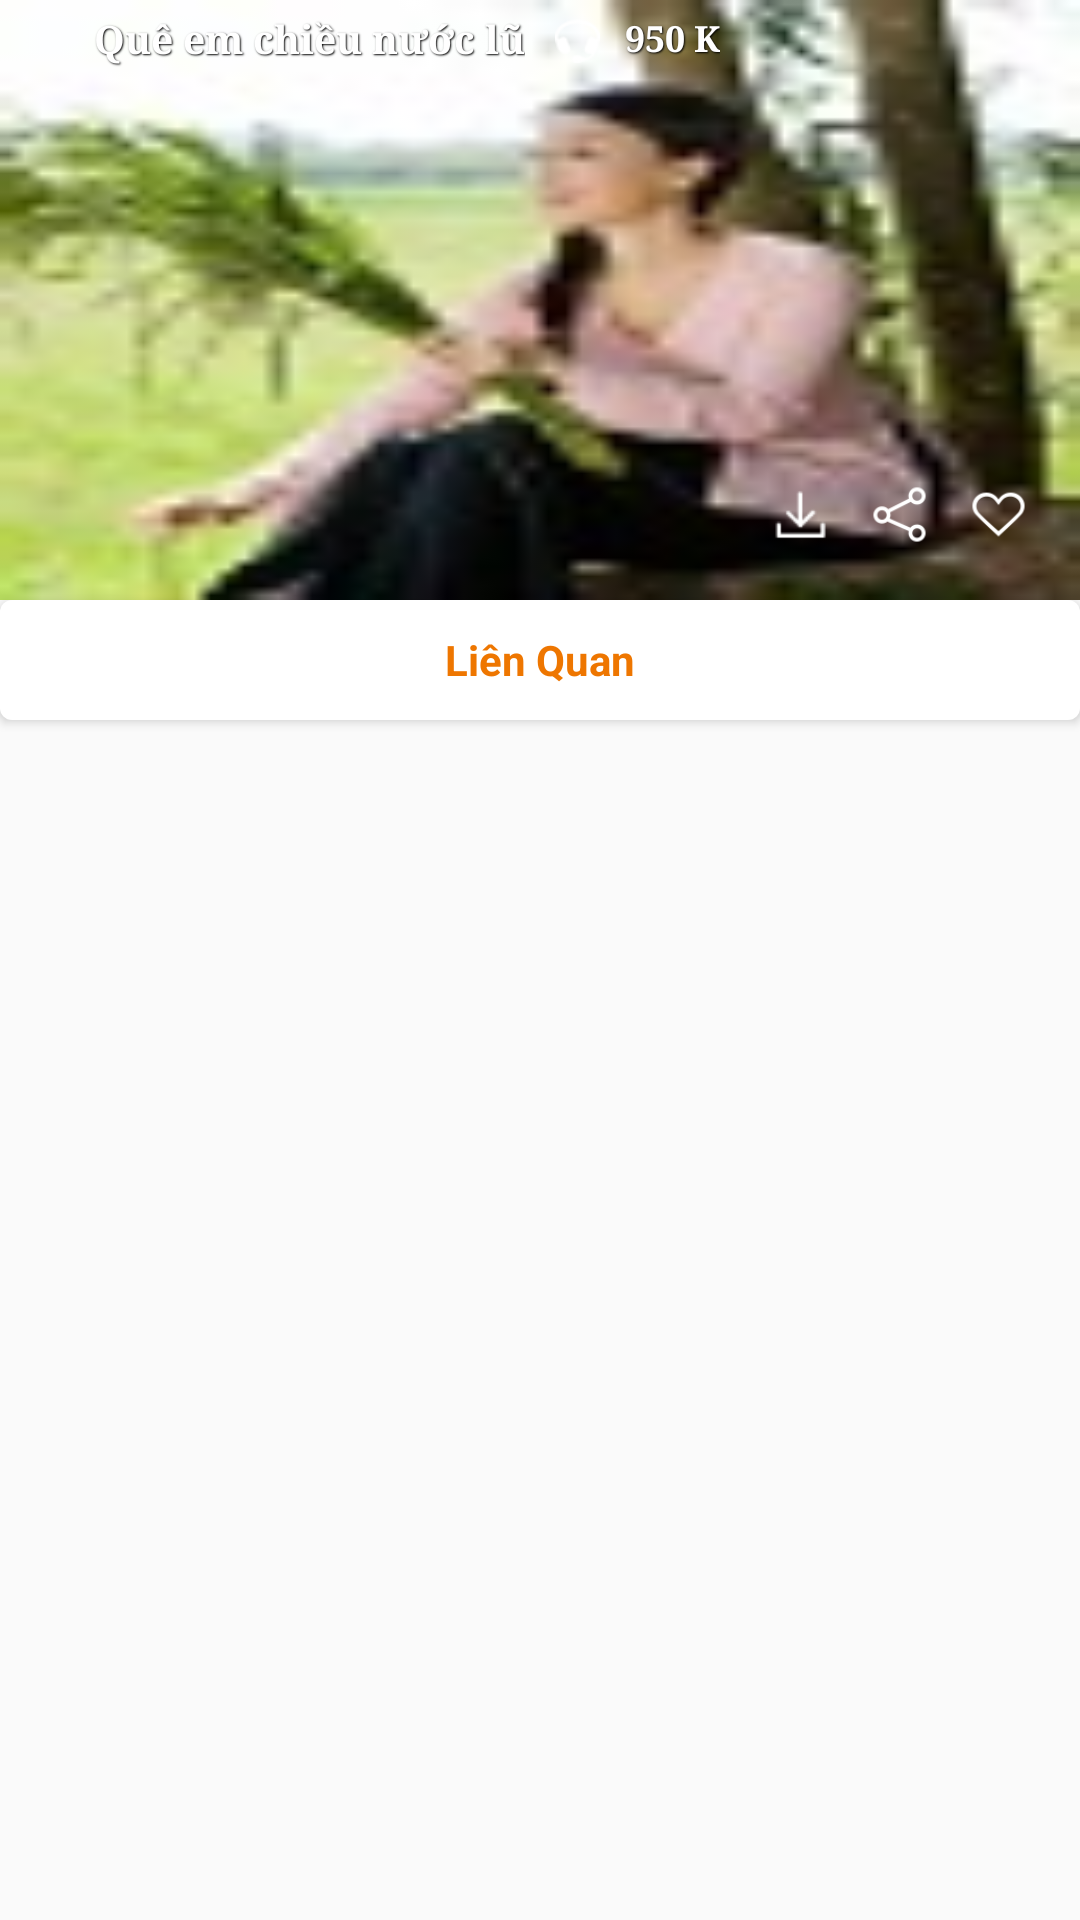

Screen size 1080×1920. Icon name, then its center in pixels as (x,y):
download: (800,514)
like: (998,514)
video share: (899,514)
